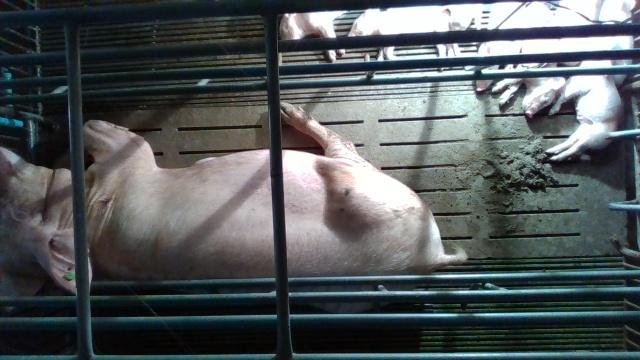piglet: (494, 0, 566, 117), (545, 59, 621, 162), (348, 5, 449, 71), (280, 11, 344, 61)
sow-sleep: (0, 101, 467, 313)
